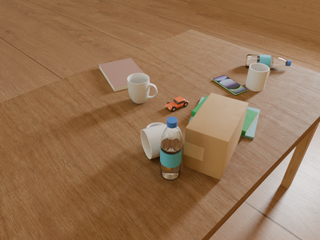book: (192, 96, 258, 136), (99, 58, 144, 91)
bottle: (160, 117, 182, 180), (245, 55, 291, 68)
box: (183, 93, 248, 180)
cup: (141, 123, 183, 159), (127, 73, 157, 104), (245, 63, 270, 91)
phone: (213, 75, 247, 95)
toy_car: (166, 96, 188, 112)
